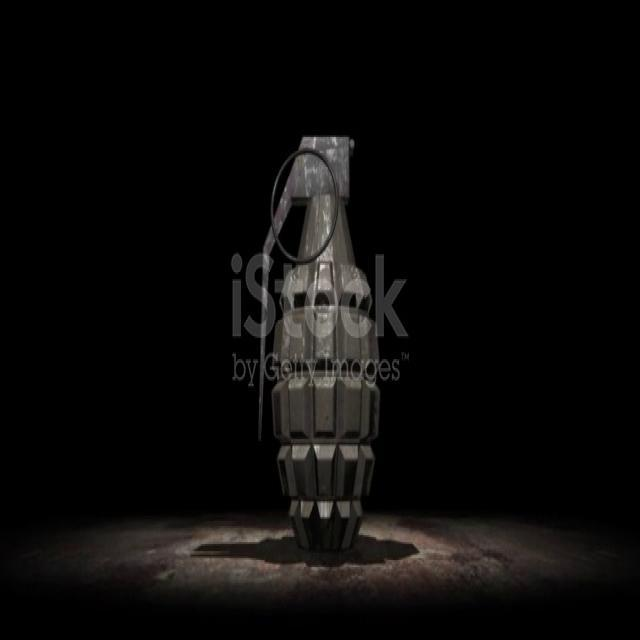grenade: (258, 132, 380, 556)
